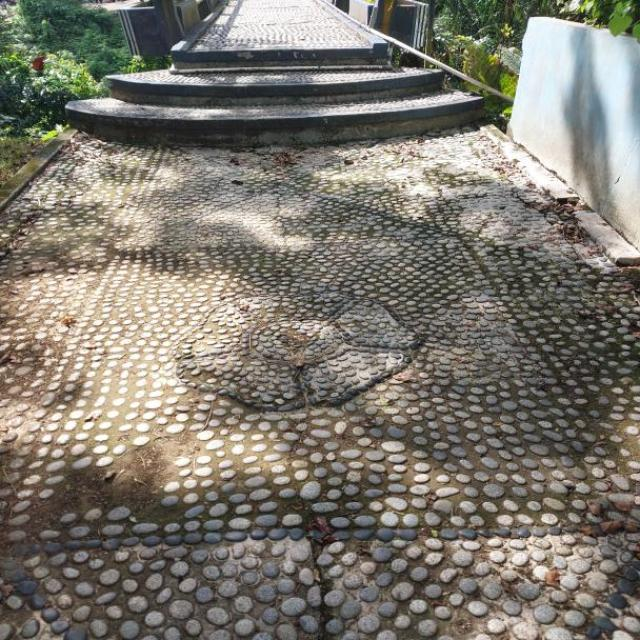stairs ahead at: (68, 42, 492, 132)
